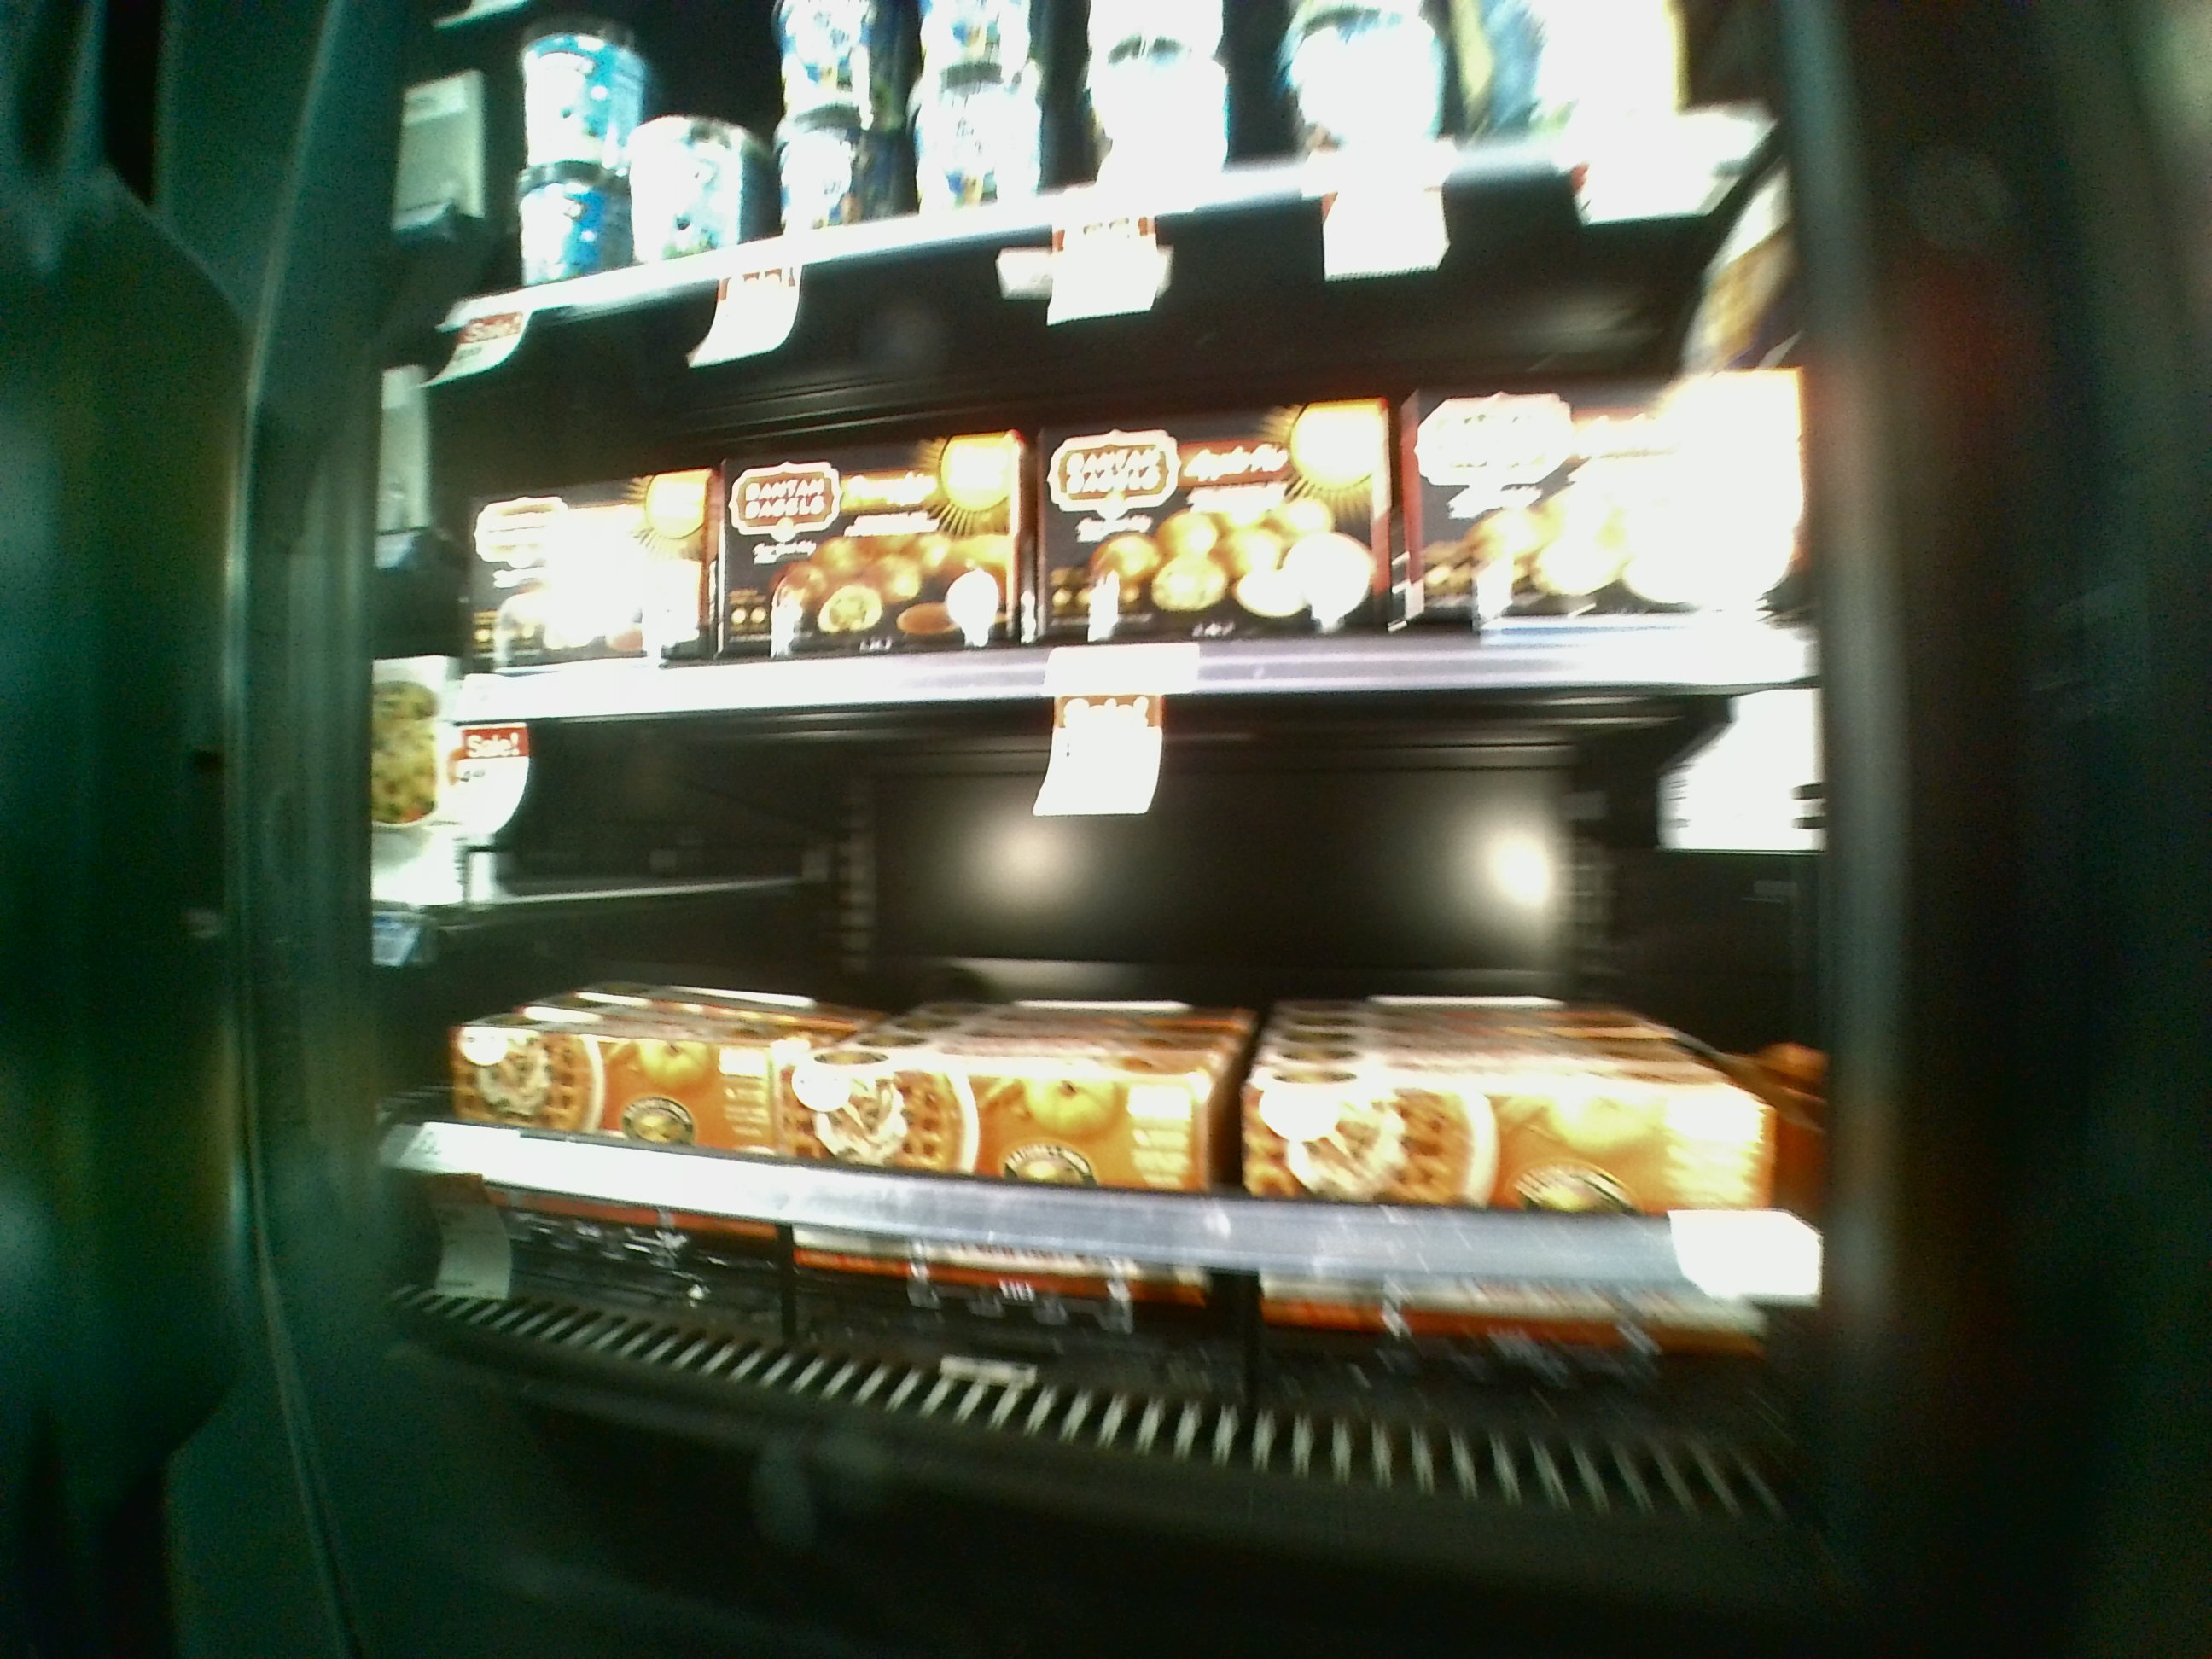shelf: (423, 694, 1834, 1492), (439, 289, 1822, 690)
